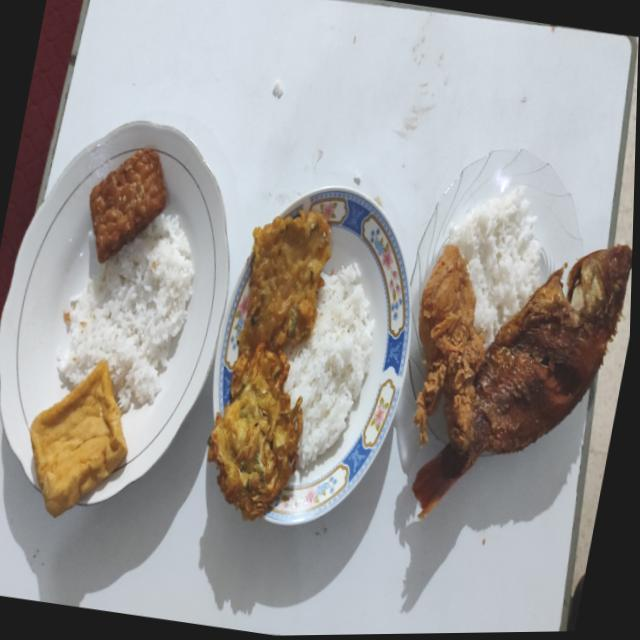ikan_mujair: (412, 246, 632, 514)
nasi_putih: (58, 214, 194, 414), (285, 264, 374, 469), (449, 186, 542, 347)
tahu_goreng: (30, 360, 127, 517)
tempe_goreng: (90, 148, 167, 264)
